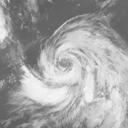cyclone: (37, 15, 105, 94)
